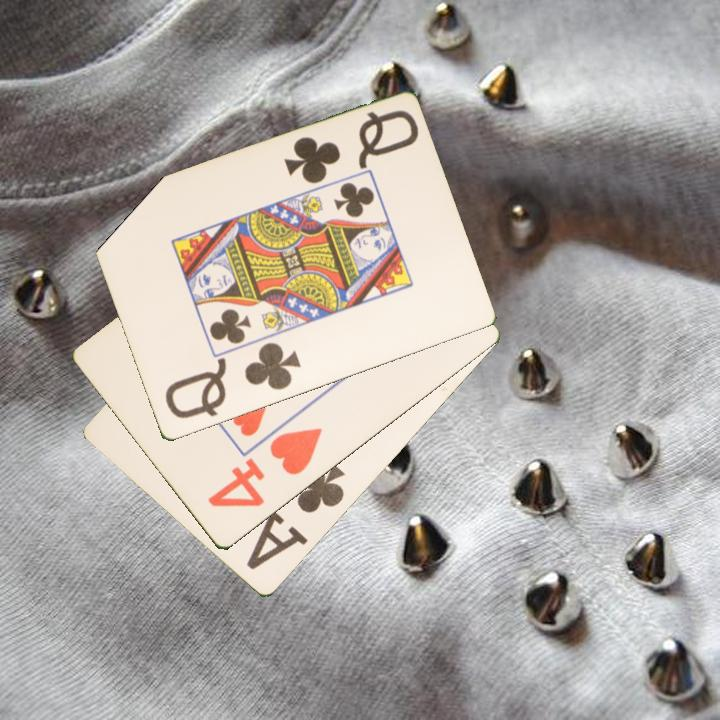4h: (204, 424, 326, 511)
Ac: (242, 460, 349, 574)
Qc: (161, 339, 304, 422), (280, 107, 422, 188)
